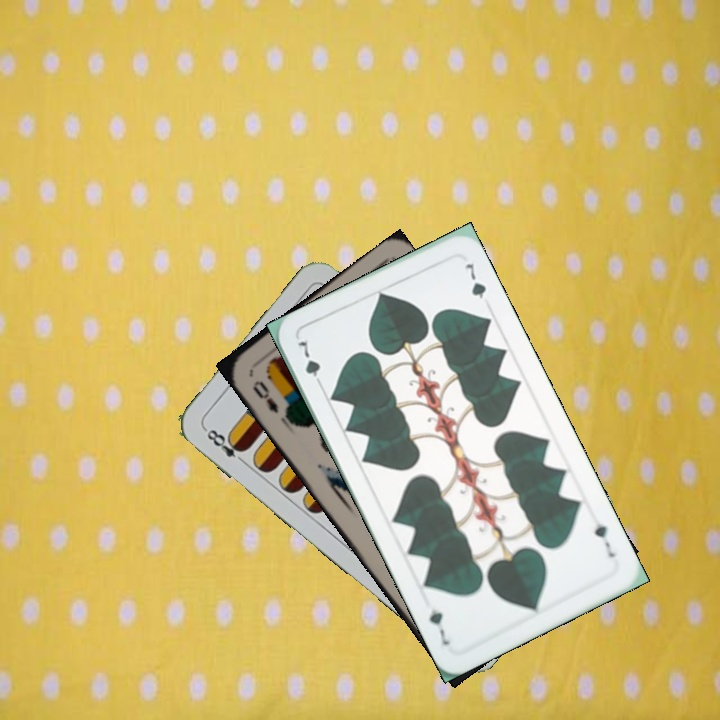E8: (200, 424, 249, 468)
EO: (248, 376, 282, 416)
G7: (293, 335, 326, 391), (590, 512, 618, 560)
